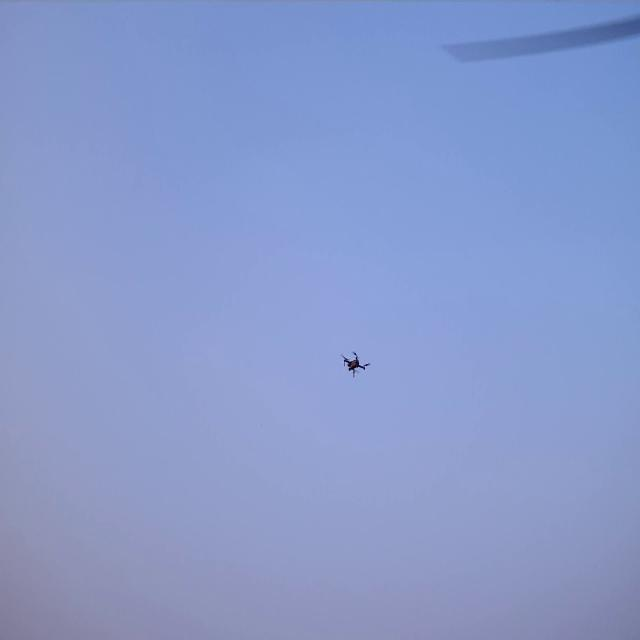UAV: (344, 353, 367, 377)
